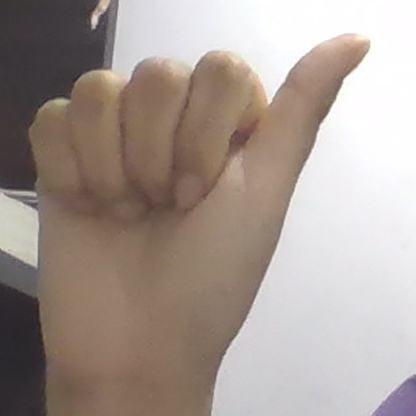A: (30, 34, 369, 380)
